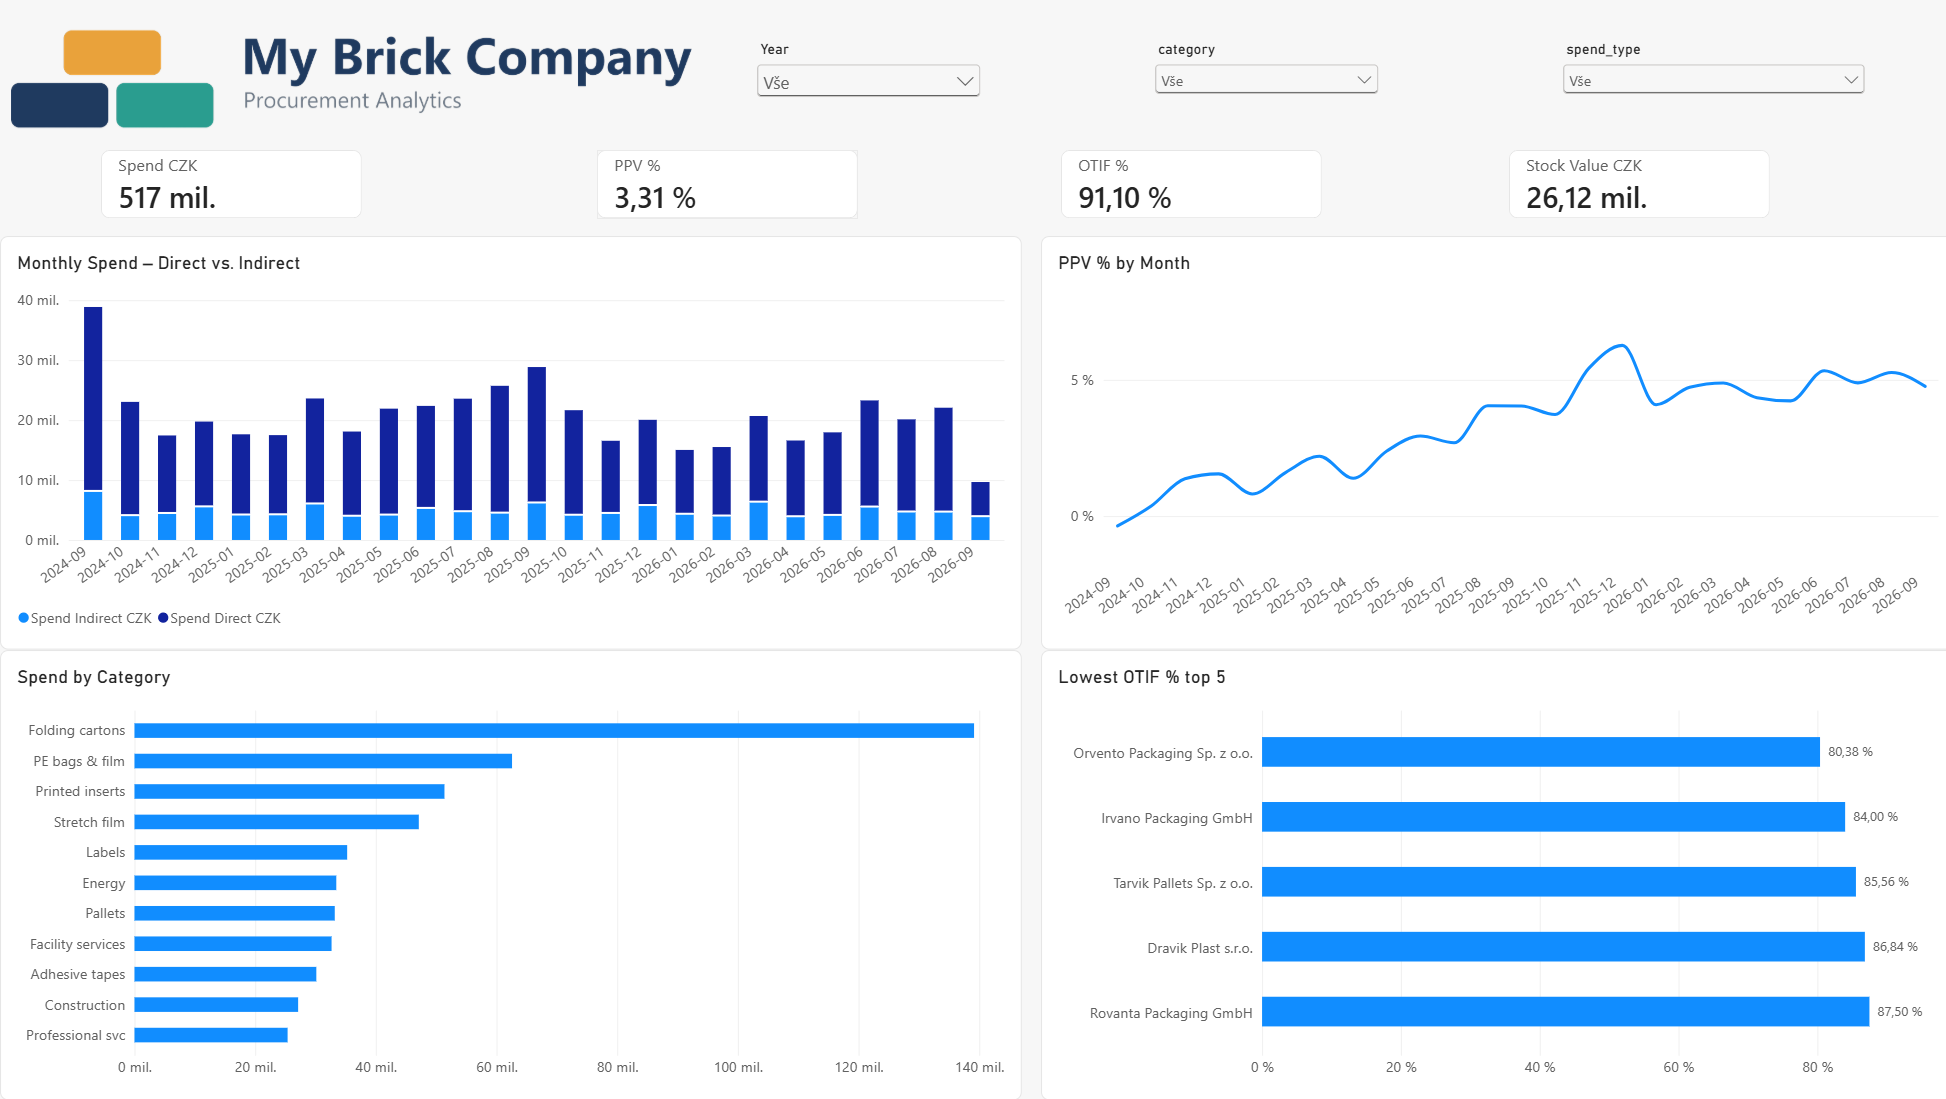

What the dashboard file says about the page in this screenshot:
{"tool":"powerbi","page":{"name":"Overview","canvas":[1920,1080],"ordinal":0},"visuals":[{"type":"image","box":[0,0,690.1,155.1],"z":3},{"type":"slicer","fields":{"Values":["DimDate.Year"]},"box":[738.2,40.2,228.7,74.6],"z":5},{"type":"slicer","fields":{"Values":["DimMaterial.category"]},"box":[1128.8,40.2,228.7,74.6],"z":6},{"type":"slicer","fields":{"Values":["DimMaterial.spend_type"]},"box":[1529.3,40.2,306.3,123.7],"z":7},{"type":"cardVisual","fields":{"Data":["_Measures.Spend CZK"]},"box":[99.1,147.2,256.2,67.7],"z":8},{"type":"cardVisual","fields":{"Data":["_Measures.PPV %"]},"box":[586,147.2,256.2,67.7],"z":9},{"type":"cardVisual","fields":{"Data":["_Measures.OTIF %"]},"box":[1041.5,147.2,256.2,67.7],"z":10},{"type":"cardVisual","fields":{"Data":["_Measures.Stock Value CZK"]},"box":[1481.2,147.2,256.2,67.7],"z":11},{"type":"columnChart","title":"Monthly Spend – Direct vs. Indirect","fields":{"Category":["DimDate.Year Month"],"Y":["_Measures.Spend Indirect CZK","_Measures.Spend Direct CZK"]},"box":[0,231.7,1003.2,406.4],"z":12},{"type":"lineChart","title":"PPV % by Month","fields":{"Category":["DimDate.Year Month"],"Y":["_Measures.PPV %"]},"box":[1021.8,231.7,898.2,406.4],"z":13},{"type":"barChart","title":"Spend by Category","fields":{"Category":["DimMaterial.category"],"Y":["_Measures.Spend CZK"]},"box":[0,638,1003.2,441.7],"z":14},{"type":"barChart","title":"Lowest OTIF % top 5","fields":{"Category":["DimVendor.vendor_name"],"Y":["_Measures.OTIF %"]},"box":[1021.8,638,898.2,441.7],"z":15}]}

Visuals, with their boxes in screenshot pixels (x1, y1, x2, y2), scaled from the page's 1920x1080 canvas onto the 1946x1099 screenshot:
image: [left=0, top=0, right=699, bottom=158]
slicer - DimDate.Year: [left=748, top=41, right=980, bottom=117]
slicer - DimMaterial.category: [left=1144, top=41, right=1376, bottom=117]
slicer - DimMaterial.spend_type: [left=1550, top=41, right=1860, bottom=167]
cardVisual - _Measures.Spend CZK: [left=100, top=150, right=360, bottom=219]
cardVisual - _Measures.PPV %: [left=594, top=150, right=854, bottom=219]
cardVisual - _Measures.OTIF %: [left=1056, top=150, right=1315, bottom=219]
cardVisual - _Measures.Stock Value CZK: [left=1501, top=150, right=1761, bottom=219]
"Monthly Spend – Direct vs. Indirect" columnChart: [left=0, top=236, right=1017, bottom=649]
"PPV % by Month" lineChart: [left=1036, top=236, right=1945, bottom=649]
"Spend by Category" barChart: [left=0, top=649, right=1017, bottom=1098]
"Lowest OTIF % top 5" barChart: [left=1036, top=649, right=1945, bottom=1098]
